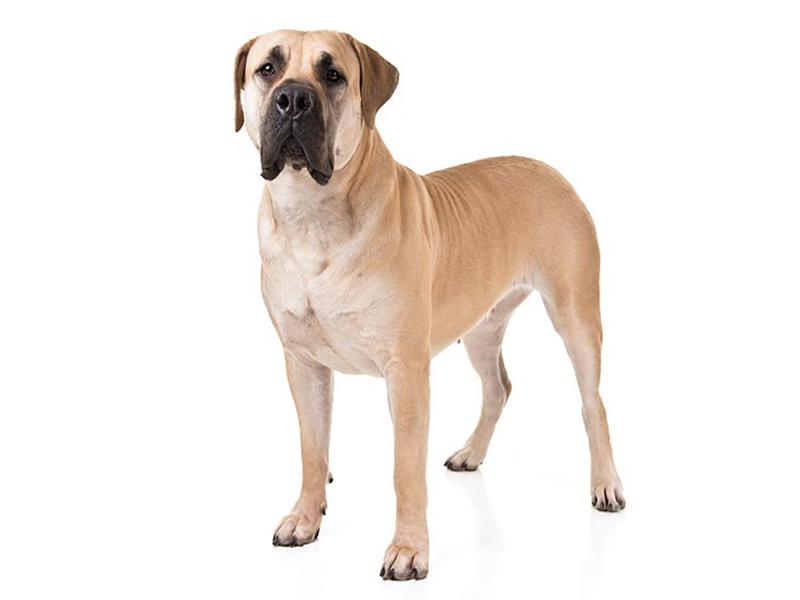dog_stand: (232, 25, 634, 592)
